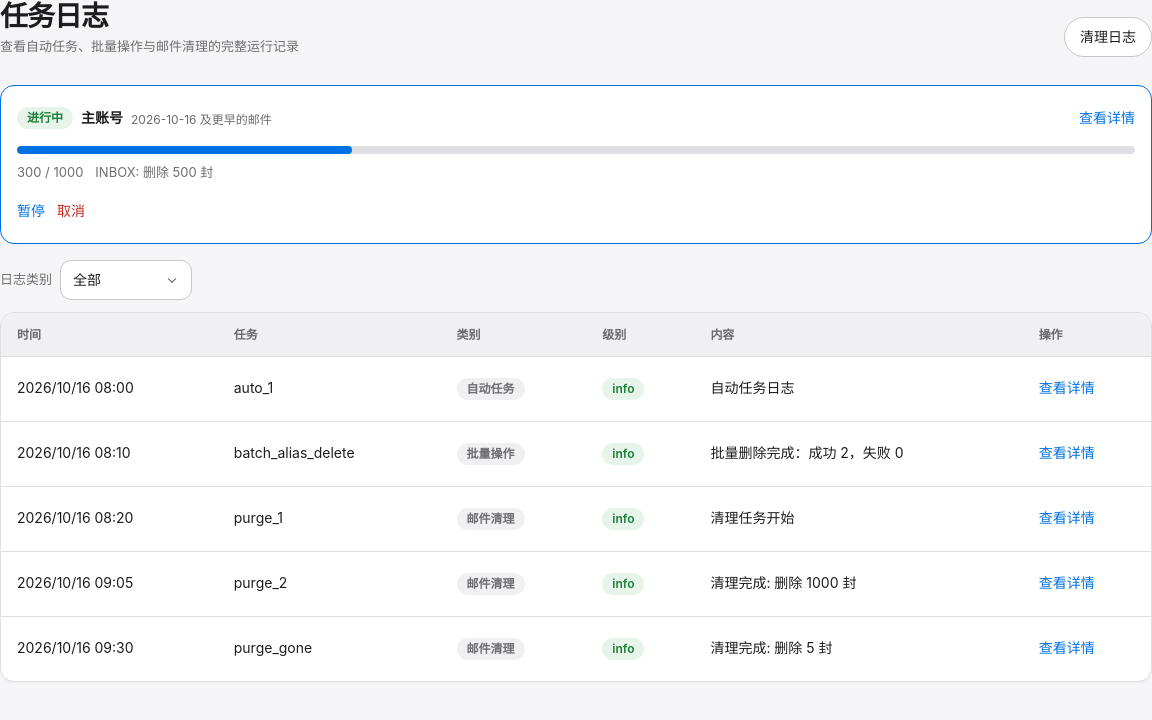
Test case: LogsPage 清理任务与类别 › 运行中任务的日志行同样打开「清理任务详情」
Expected: the text "清理任务开始" is shown, [694, 486, 1023, 552]
Click the button "查看详情" in the row of "2026/10/16 08:20" at (1067, 519), box [1039, 499, 1095, 539]
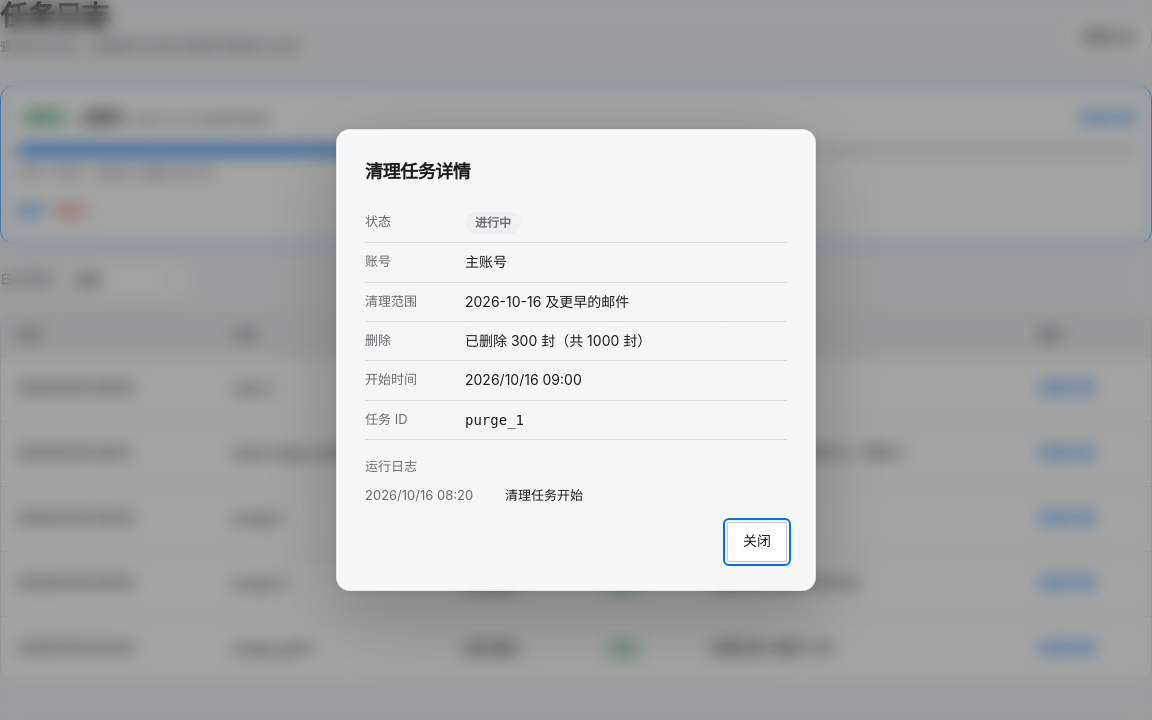
Expected: the text "进行中" is shown, [465, 212, 521, 234]
Expected: the text "清理任务开始" is shown, [505, 487, 583, 503]
